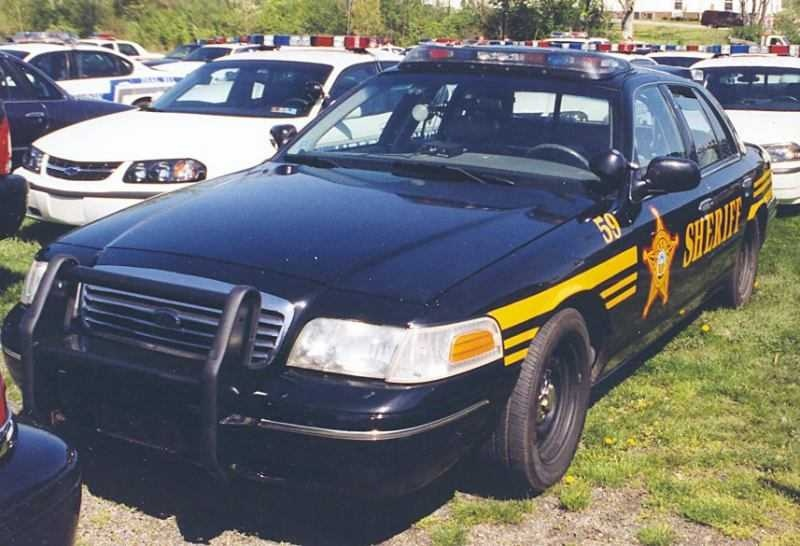Police Car: (8, 60, 772, 461), (187, 28, 407, 205)
